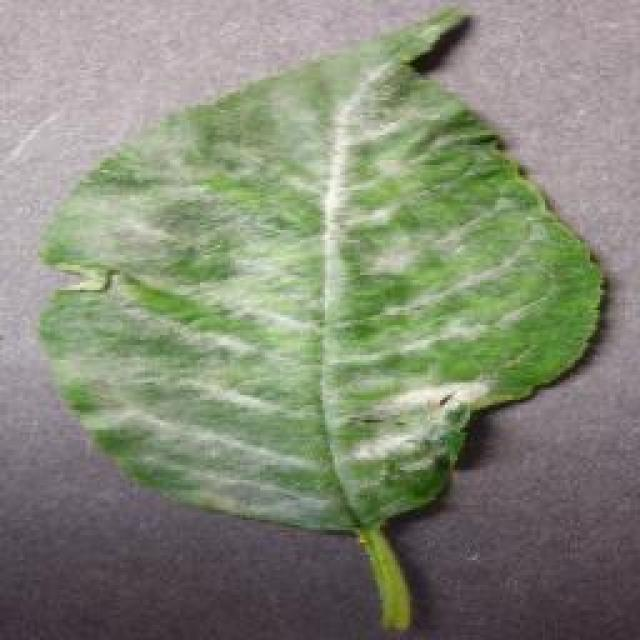Cherry___Powdery_mildew: (56, 81, 550, 520)
